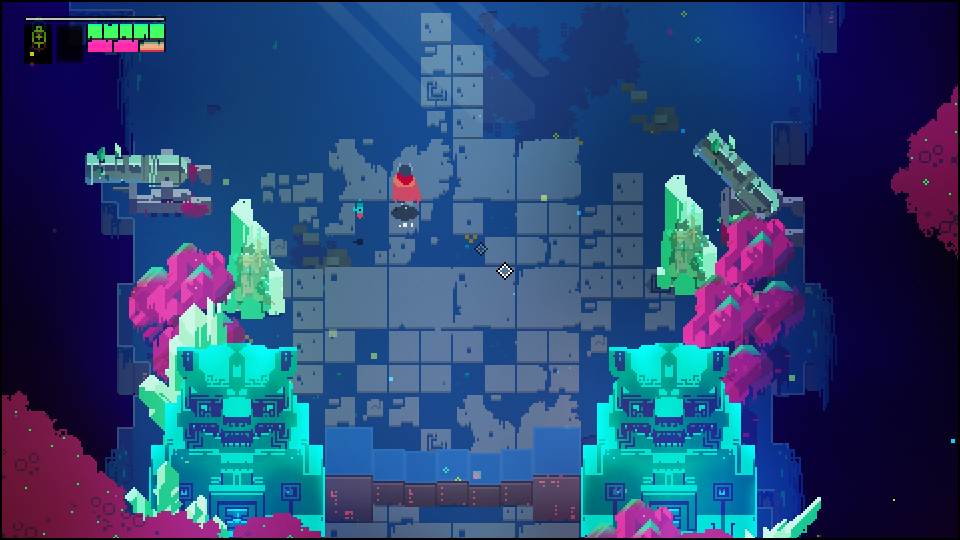player: (387, 162, 422, 214)
